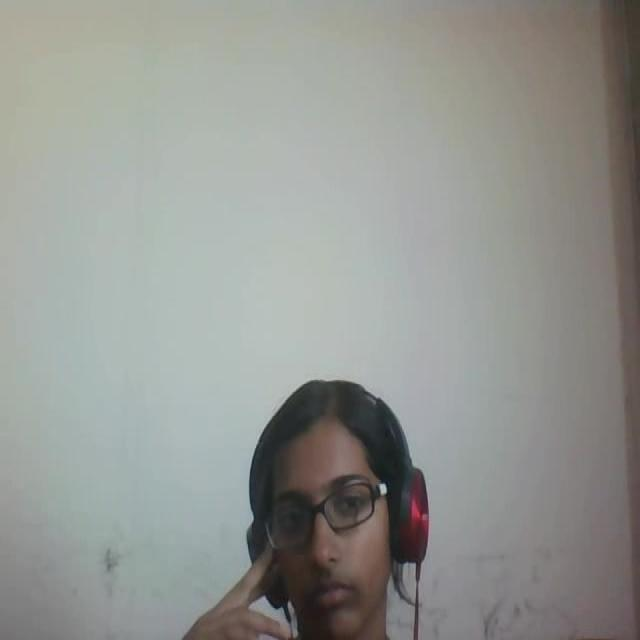Bored: (214, 308, 433, 640)
